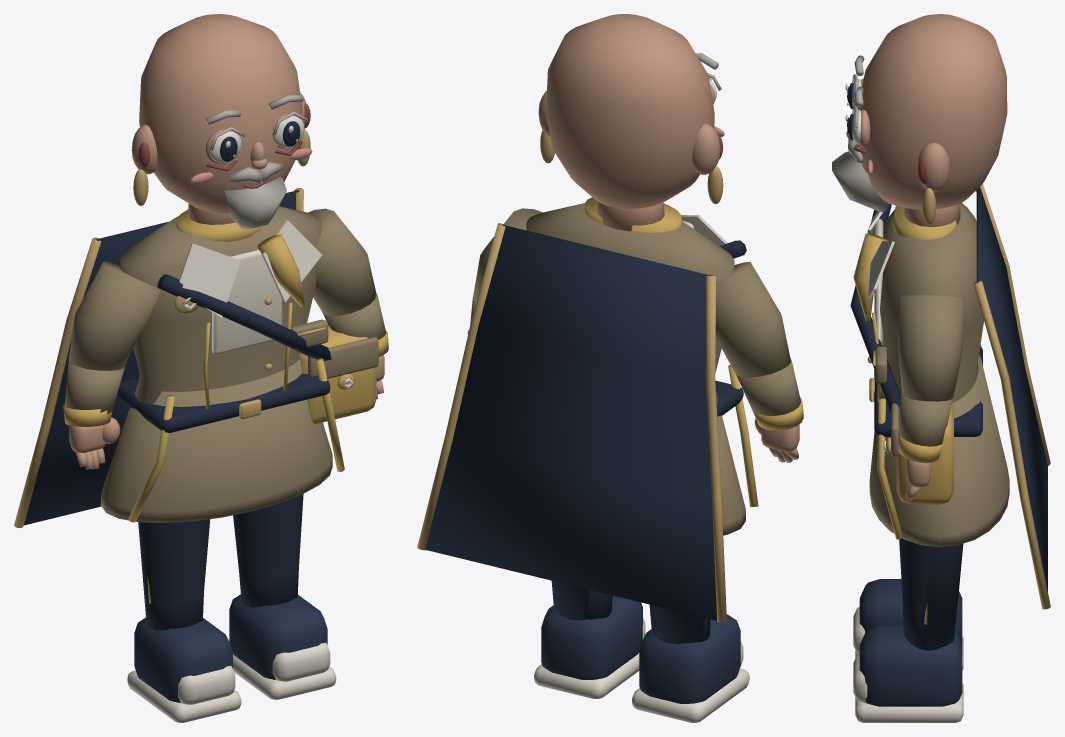
Rendered from npc_npc_meadow_hermit_reward.glb.
The picture shows the model from 3 angles, left to right: view 1: azimuth 30°, elevation 25°; view 2: azimuth 150°, elevation 25°; view 3: azimuth 270°, elevation 25°; orthographic projection. The views are drawn at different scales.
Visible parts, largest first — view 1: figure.018; view 2: figure.018; view 3: figure.018.
Part boxes in pixels (box(x1,y1,x2,y2)): figure.018: box(14, 14, 388, 722); figure.018: box(417, 14, 803, 722); figure.018: box(832, 14, 1050, 722).
Bounding box in the file's own units: 0.7767 × 1.52 × 0.4544.
